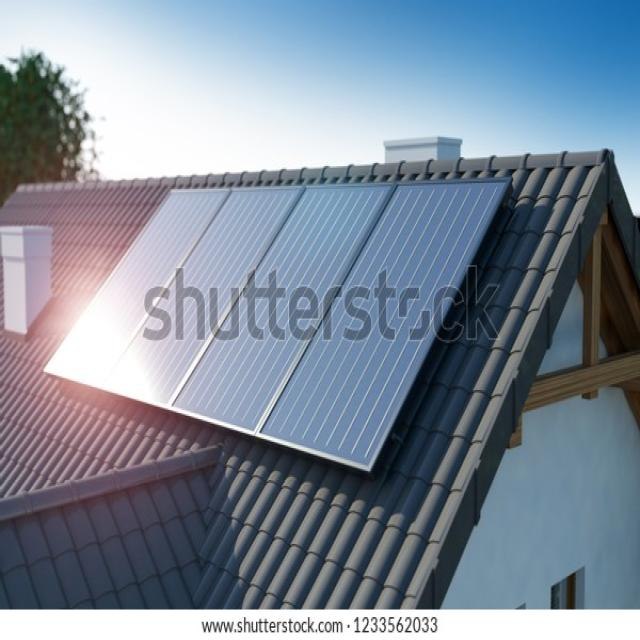clean-solar-panel: (46, 181, 510, 471)
